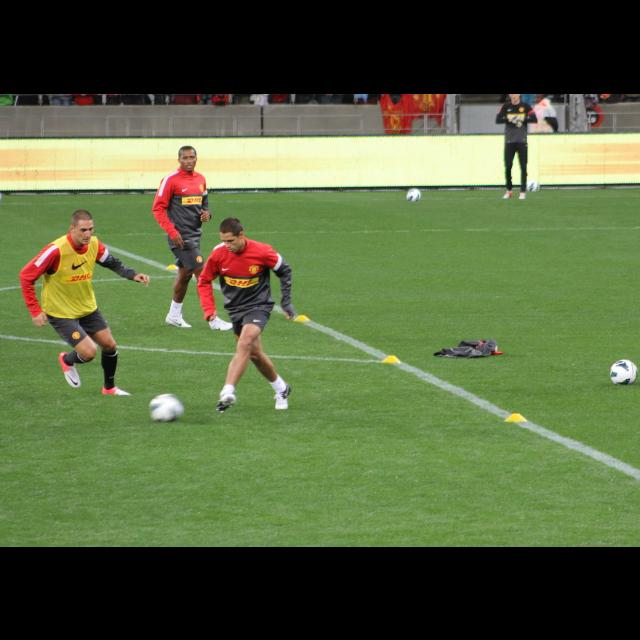Football: (148, 390, 184, 420), (608, 355, 638, 383), (404, 186, 420, 200)
